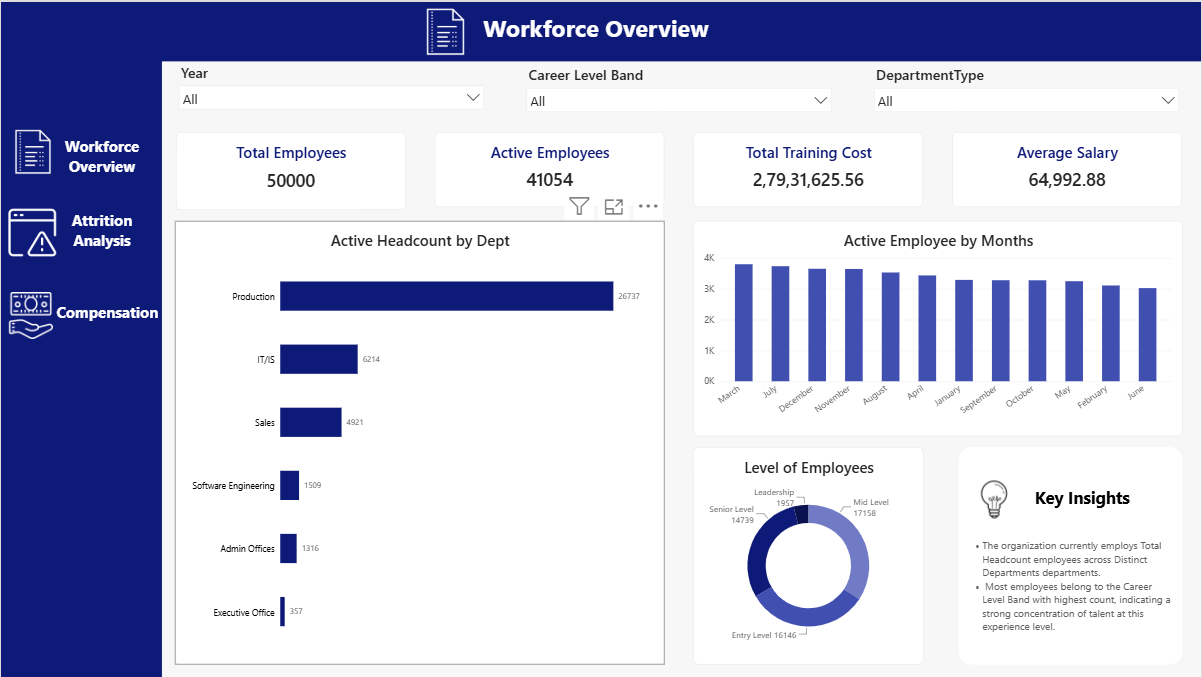

Layout of this report page (visuals, bound fields, positions):
{"tool":"powerbi","page":{"name":"Workforce Overview","canvas":[1920,1080],"ordinal":0},"visuals":[{"type":"shape","box":[0,0,257.5,1080],"z":0,"group":"g1"},{"type":"shape","box":[0,0,1920,95],"z":0,"group":"g4"},{"type":"textbox","box":[742,15,420,65],"z":0,"group":"g2"},{"type":"image","box":[5,190,90,95],"z":0,"group":"g3"},{"type":"card","title":"Total Employees","fields":{"Values":["Measure table.Total_Headcount"]},"box":[280,207.5,367.5,125],"z":0},{"type":"image","box":[0,330,100,77.5],"z":0,"group":"g6"},{"type":"image","box":[0,465,91.6,75],"z":0,"group":"g5"},{"type":"group","id":"g1","title":"side bar","box":[0,0,260,1080],"z":1000},{"type":"image","box":[647,0,130,95],"z":1000,"group":"g2"},{"type":"group","id":"g2","title":"Title","box":[647,0,515,95],"z":1000,"group":"g4"},{"type":"group","id":"g3","title":"Workforce Overview","box":[0,185,258.8,110],"z":1000,"group":"g1"},{"type":"actionButton","box":[0,185,257.5,105],"z":1000,"group":"g3"},{"type":"actionButton","box":[2.5,317.5,257.5,105],"z":1000,"group":"g6"},{"type":"textbox","box":[85.4,481.2,168.4,62.5],"z":1000,"group":"g5"},{"type":"group","id":"g4","title":"top bar","box":[0,0,1920,95],"z":2000},{"type":"textbox","box":[63.8,212.5,195,82.5],"z":2000,"group":"g3"},{"type":"textbox","box":[63.8,331.3,195,72.5],"z":2000,"group":"g6"},{"type":"group","id":"g5","title":"Compensation","box":[0,452.5,257.5,105],"z":2000,"group":"g1"},{"type":"actionButton","box":[2.5,452.5,255,105],"z":2000,"group":"g5"},{"type":"card","title":"Active Employees","fields":{"Values":["Measure table.Active_Headcount"]},"box":[694.2,207.5,367.5,120],"z":3000},{"type":"group","id":"g6","title":"Attrition Analysis","box":[0,317.5,260,105],"z":3000,"group":"g1"},{"type":"card","title":"Average Salary","fields":{"Values":["Measure table.Avg_Salary"]},"box":[1522.5,207.5,367.5,120],"z":4000},{"type":"card","title":"Total Training Cost","fields":{"Values":["Measure table.Total_Training_Cost"]},"box":[1108.3,207.5,367.5,120],"z":5000},{"type":"slicer","fields":{"Values":["DimDate.Year"]},"box":[280,95,497.5,90],"z":6000},{"type":"slicer","fields":{"Values":["EmployeeMaster.Career_Level_Band"]},"box":[836.2,100,497.5,90],"z":7000},{"type":"slicer","fields":{"Values":["EmployeeMaster.DepartmentType"]},"box":[1392.5,100,497.5,90],"z":8000},{"type":"clusteredBarChart","title":"Active Headcount by Dept","fields":{"Category":["EmployeeMaster.DepartmentType"],"Y":["Measure table.Active_Headcount"]},"box":[278,350,784,710],"z":9000},{"type":"clusteredColumnChart","title":"Active Employee by Months","fields":{"Category":["DimDate.Month_Name"],"Y":["Measure table.Active_Headcount"]},"box":[1107.5,350,782.5,345],"z":10000},{"type":"donutChart","title":"Level of Employees","fields":{"Category":["EmployeeMaster.Career_Level_Band"],"Y":["CountNonNull(EmployeeMaster.EmpID)"]},"box":[1108,712,368,348],"z":11000},{"type":"shape","box":[1531.4,711.4,358.6,348.6],"z":12000},{"type":"textbox","box":[1642,774,176,42],"z":13000},{"type":"image","box":[1545.7,755.7,84.3,80],"z":14000},{"type":"textbox","box":[1545.7,857.1,327.1,172.9],"z":15000}]}

Visuals, with their boxes in screenshot pixels (x1, y1, x2, y2), scaled from the page's 1920x1080 canvas onto the 1202x677 screenshot:
shape: bbox(0, 0, 161, 676)
shape: bbox(0, 0, 1201, 60)
textbox: bbox(465, 9, 727, 50)
image: bbox(3, 119, 59, 179)
"Total Employees" card: bbox(175, 130, 405, 208)
image: bbox(0, 207, 63, 255)
image: bbox(0, 291, 57, 338)
"side bar" group: bbox(0, 0, 163, 676)
image: bbox(405, 0, 486, 60)
"Title" group: bbox(405, 0, 727, 60)
"Workforce Overview" group: bbox(0, 116, 162, 185)
actionButton: bbox(0, 116, 161, 182)
actionButton: bbox(2, 199, 163, 265)
textbox: bbox(53, 302, 159, 341)
"top bar" group: bbox(0, 0, 1201, 60)
textbox: bbox(40, 133, 162, 185)
textbox: bbox(40, 208, 162, 253)
"Compensation" group: bbox(0, 284, 161, 349)
actionButton: bbox(2, 284, 161, 349)
"Active Employees" card: bbox(435, 130, 665, 205)
"Attrition Analysis" group: bbox(0, 199, 163, 265)
"Average Salary" card: bbox(953, 130, 1183, 205)
"Total Training Cost" card: bbox(694, 130, 924, 205)
slicer - DimDate.Year: bbox(175, 60, 487, 116)
slicer - EmployeeMaster.Career_Level_Band: bbox(523, 63, 835, 119)
slicer - EmployeeMaster.DepartmentType: bbox(872, 63, 1183, 119)
"Active Headcount by Dept" clusteredBarChart: bbox(174, 219, 665, 664)
"Active Employee by Months" clusteredColumnChart: bbox(693, 219, 1183, 436)
"Level of Employees" donutChart: bbox(694, 446, 924, 664)
shape: bbox(959, 446, 1183, 664)
textbox: bbox(1028, 485, 1138, 512)
image: bbox(968, 474, 1020, 524)
textbox: bbox(968, 537, 1172, 646)
